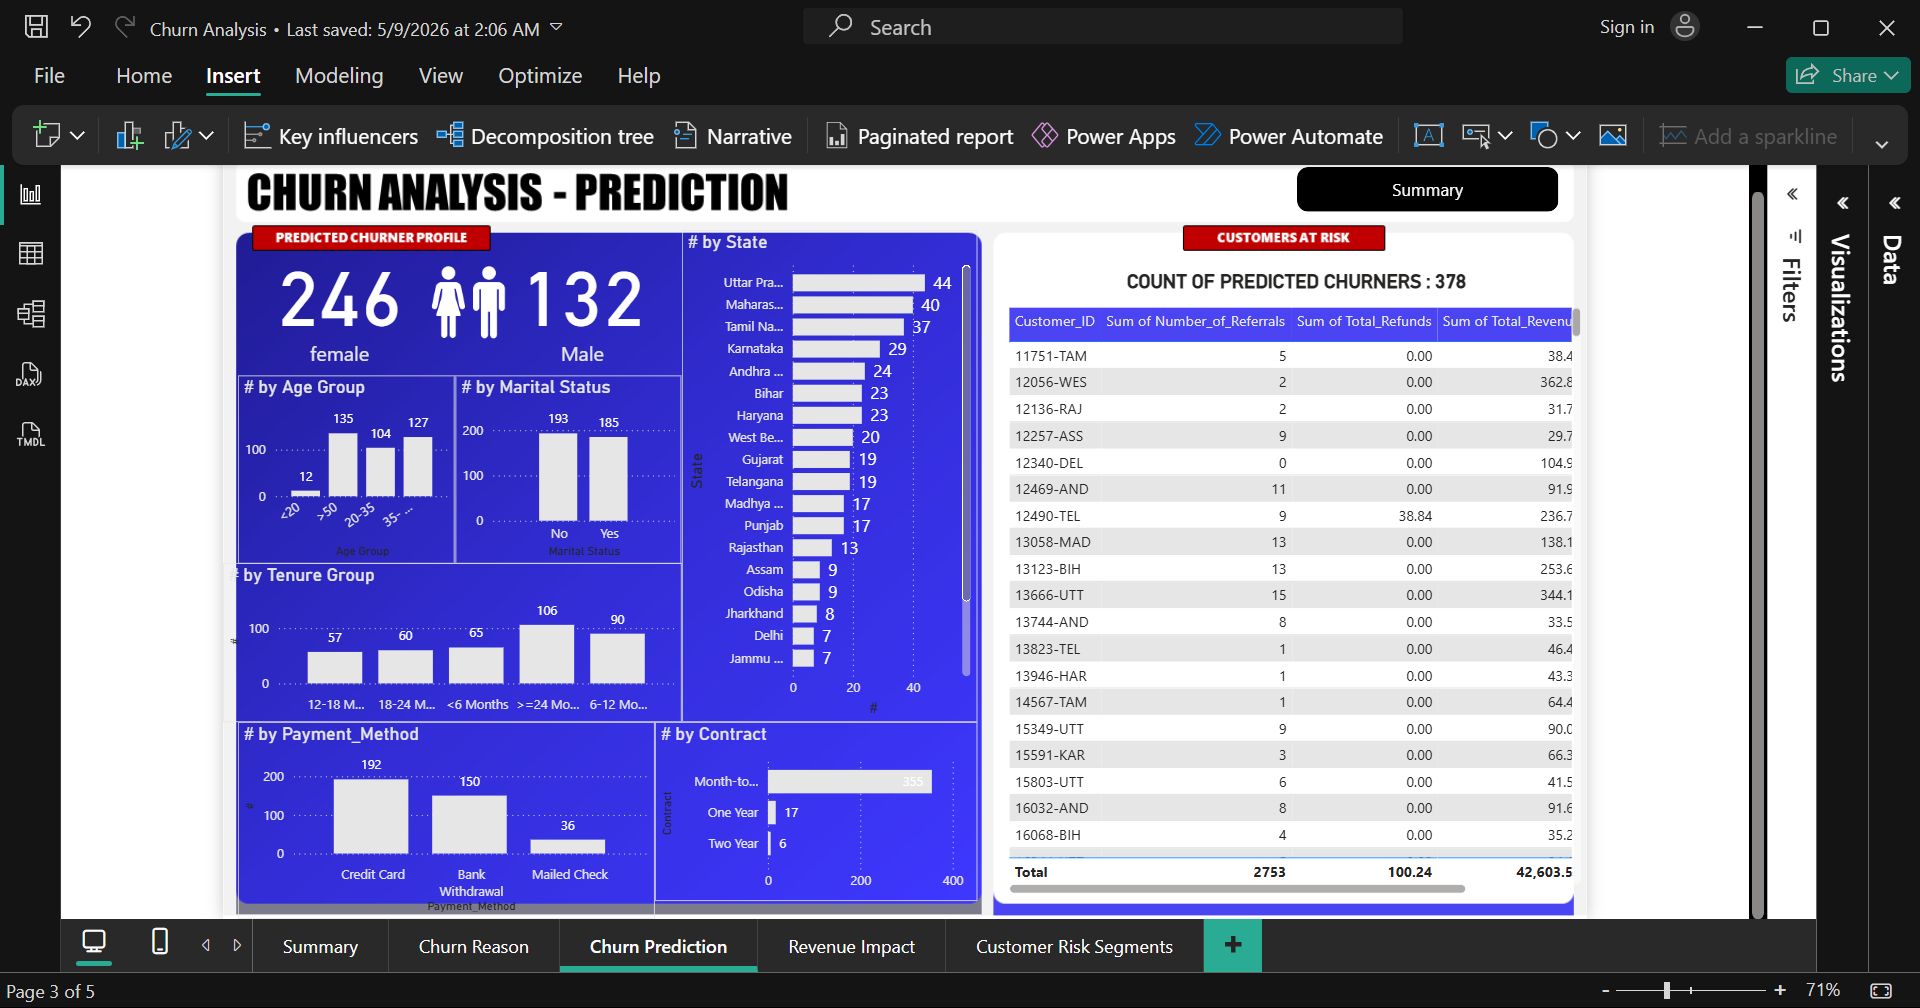

The dashboard page shown, as its layout file describes it:
{"tool":"powerbi","page":{"name":"Churn Prediction","canvas":[1280,720],"ordinal":2},"visuals":[{"type":"card","fields":{"Values":["tbl_measure.Title Predicted Churners"]},"box":[774.7,100.8,466.1,39.9],"z":0},{"type":"tableEx","fields":{"Values":["Sheet1.Customer_ID","Sum(Sheet1.Number_of_Referrals)","Sum(Sheet1.Total_Refunds)","Sum(Sheet1.Total_Revenue)","Sheet1.Monthly_Charge"]},"box":[732.7,140.7,548,560.6],"z":1000},{"type":"card","fields":{"Values":["tbl_measure.Count Predicted Churner"]},"box":[0,73.5,218.4,132.3],"z":2000},{"type":"card","fields":{"Values":["tbl_measure.Count Predicted Churner"]},"box":[243.5,73.5,186.9,132.3],"z":3000},{"type":"clusteredColumnChart","fields":{"Category":["mapping_AgeGrp.Age Group"],"Y":["CountNonNull(Sheet1.Customer_ID)"]},"box":[14.7,210,203.7,176.4],"z":4000},{"type":"clusteredColumnChart","fields":{"Y":["CountNonNull(Sheet1.Customer_ID)"],"Category":["Sheet1.Married"]},"box":[218.4,210,212.1,176.4],"z":5000},{"type":"clusteredColumnChart","fields":{"Y":["CountNonNull(Sheet1.Customer_ID)"],"Category":["mapping_TenureGrp.Tenure Group"]},"box":[0,386.3,430.4,149.1],"z":6000},{"type":"clusteredColumnChart","fields":{"Y":["CountNonNull(Sheet1.Customer_ID)"],"Category":["Sheet1.Payment_Method"]},"box":[14.7,535.4,390.5,184.8],"z":7000},{"type":"clusteredBarChart","fields":{"Category":["Sheet1.Contract"],"Y":["CountNonNull(Sheet1.Customer_ID)"]},"box":[405.2,535.4,302.3,168],"z":8000},{"type":"clusteredBarChart","fields":{"Category":["Sheet1.State"],"Y":["CountNonNull(Sheet1.Customer_ID)"]},"box":[430.4,73.5,277.1,461.9],"z":9000},{"type":"image","box":[187.9,77.7,86.1,126],"z":10000},{"type":"shape","box":[1007.8,14.7,245.6,42],"z":11000}]}

Visuals, with their boxes on the page's 1280x720 design canvas (x1, y1, x2, y2). These are canvas units, not pixel positions in the 1920x1008 screenshot, which may show the page scaled, cropped or inside an application window:
card - tbl_measure.Title Predicted Churners: 775/101/1241/141
tableEx - Sheet1.Customer_ID x Sum(Sheet1.Number_of_Referrals): 733/141/1281/701
card - tbl_measure.Count Predicted Churner: 0/74/218/206
card - tbl_measure.Count Predicted Churner: 244/74/430/206
clusteredColumnChart - mapping_AgeGrp.Age Group x CountNonNull(Sheet1.Customer_ID): 15/210/218/386
clusteredColumnChart - CountNonNull(Sheet1.Customer_ID) x Sheet1.Married: 218/210/430/386
clusteredColumnChart - CountNonNull(Sheet1.Customer_ID) x mapping_TenureGrp.Tenure Group: 0/386/430/535
clusteredColumnChart - CountNonNull(Sheet1.Customer_ID) x Sheet1.Payment_Method: 15/535/405/720
clusteredBarChart - Sheet1.Contract x CountNonNull(Sheet1.Customer_ID): 405/535/708/703
clusteredBarChart - Sheet1.State x CountNonNull(Sheet1.Customer_ID): 430/74/708/535
image: 188/78/274/204
shape: 1008/15/1253/57
